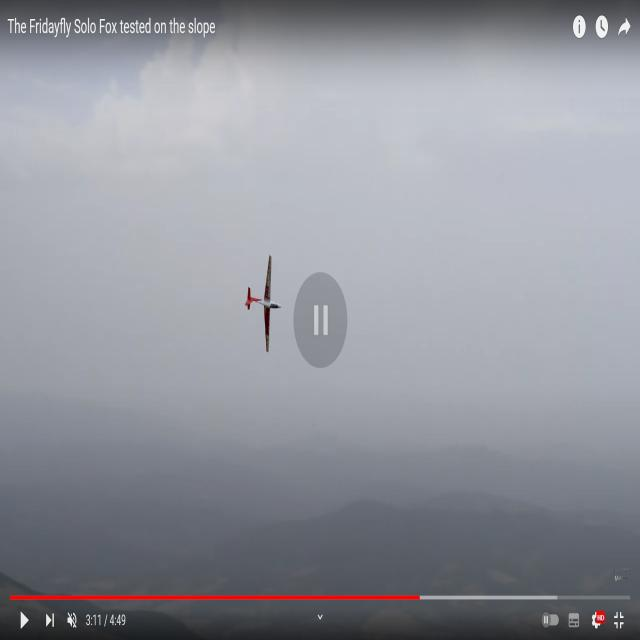iha: (240, 288, 277, 319)
